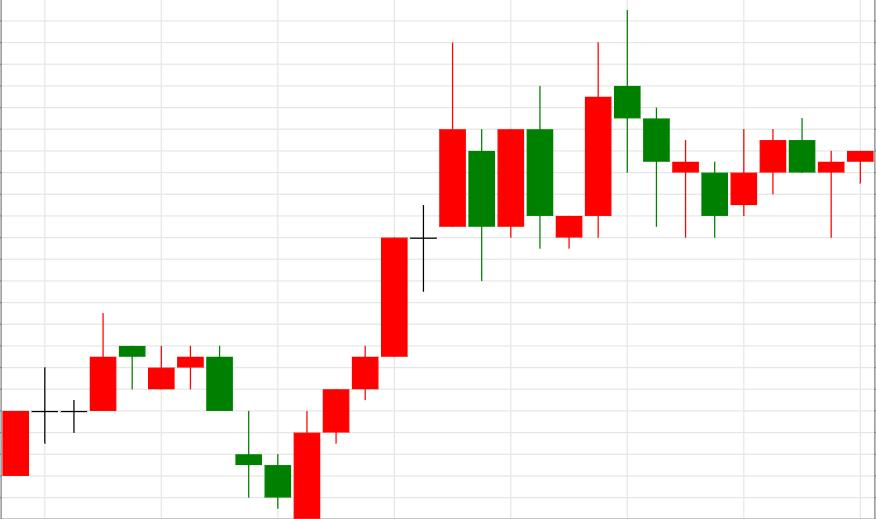bullish_engulfing_rise: (119, 346, 320, 518)
